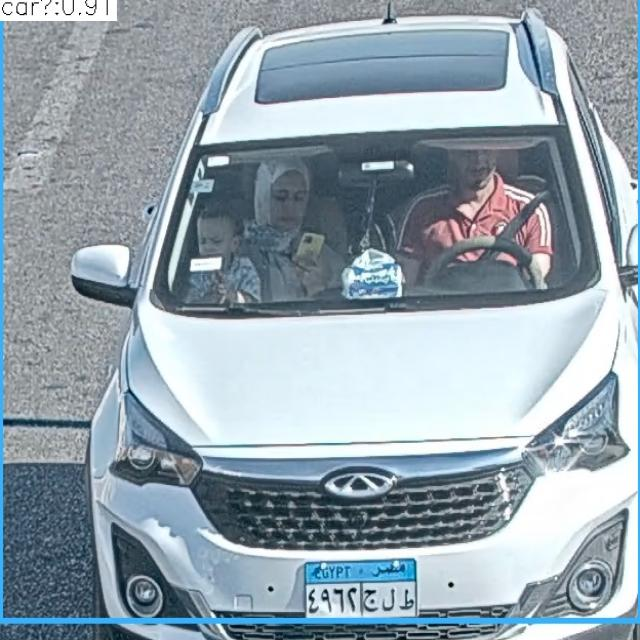windshield: (160, 134, 596, 296)
